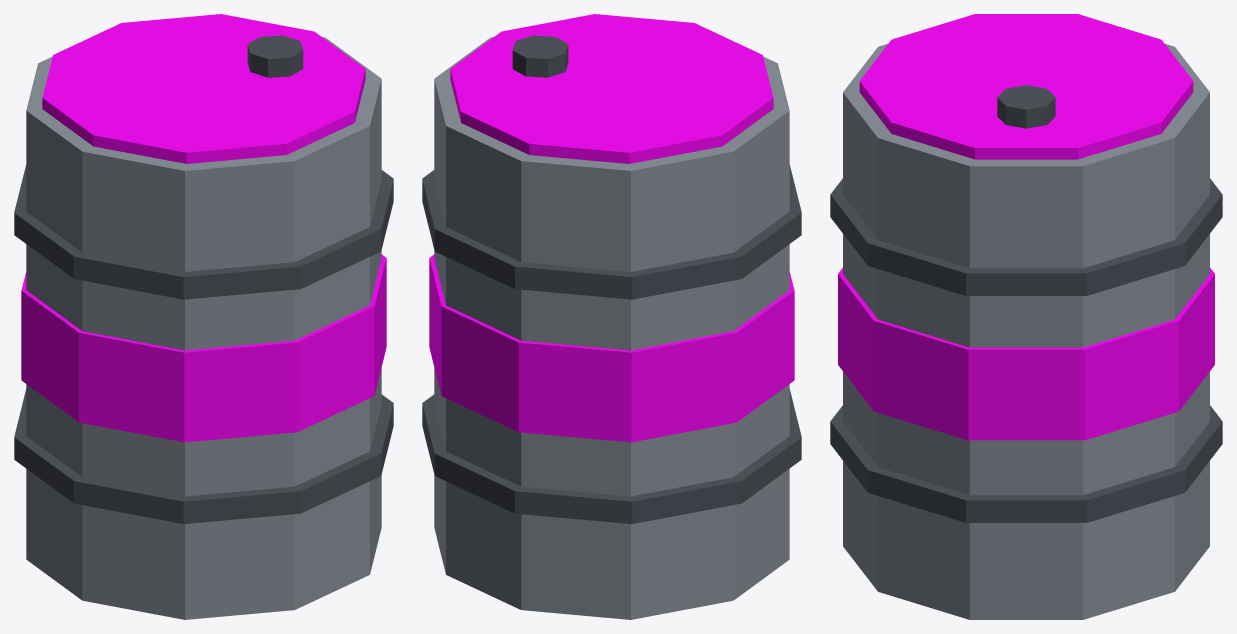
Rendered from objet_baril.glb.
3 views of the same model, side by side, from view 1: azimuth 30°, elevation 25°; view 2: azimuth 150°, elevation 25°; view 3: azimuth 270°, elevation 25° (orthographic).
Parts seen in each view (by area): view 1: fut.002, baril_teinte.002, baril_acier_sombre.002; view 2: fut.002, baril_teinte.002, baril_acier_sombre.002; view 3: fut.002, baril_teinte.002, baril_acier_sombre.002.
Part boxes in pixels (bbox=[...]): fut.002: bbox=[26, 37, 381, 619]; baril_teinte.002: bbox=[21, 14, 386, 442]; baril_acier_sombre.002: bbox=[14, 35, 393, 523]; fut.002: bbox=[434, 37, 789, 619]; baril_teinte.002: bbox=[429, 14, 794, 442]; baril_acier_sombre.002: bbox=[422, 35, 801, 523]; fut.002: bbox=[843, 44, 1209, 619]; baril_teinte.002: bbox=[838, 14, 1214, 440]; baril_acier_sombre.002: bbox=[830, 85, 1222, 522].
Size of the model in its own units: 0.2235 by 0.32 by 0.235.
